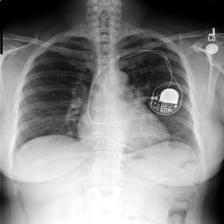normal: (10, 24, 208, 164)
